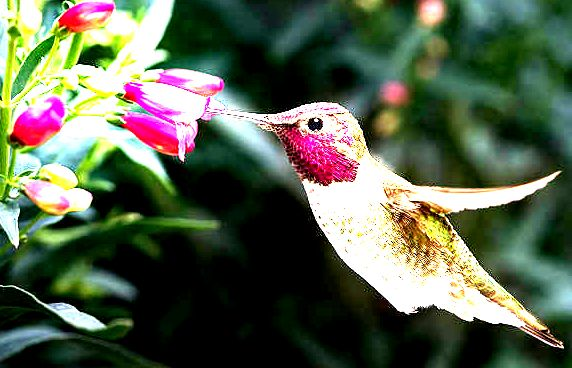Bird: (205, 91, 566, 352)
